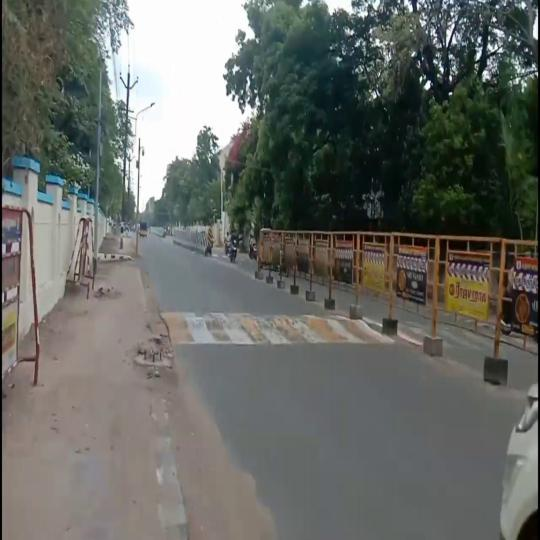Speed Bump: (159, 312, 382, 346), (398, 319, 424, 347), (443, 321, 466, 348)
